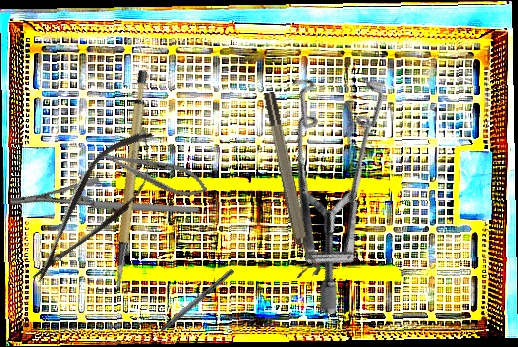Chopper: (142, 263, 235, 345)
Fixation Ring: (260, 89, 322, 279)
Micro Scissor: (13, 115, 175, 299)
Needle Holder: (7, 140, 200, 272), (94, 139, 212, 204)
Scalpel Handle: (79, 68, 177, 291)
Speculum: (194, 37, 463, 319)
